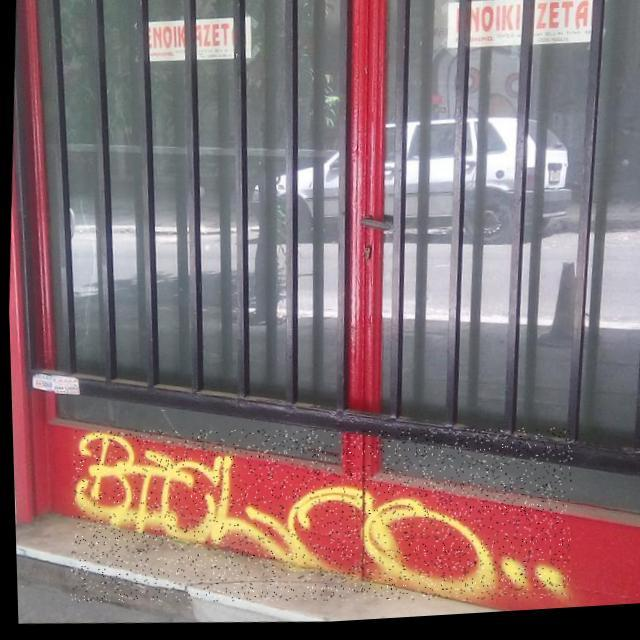-: (63, 408, 575, 629)
